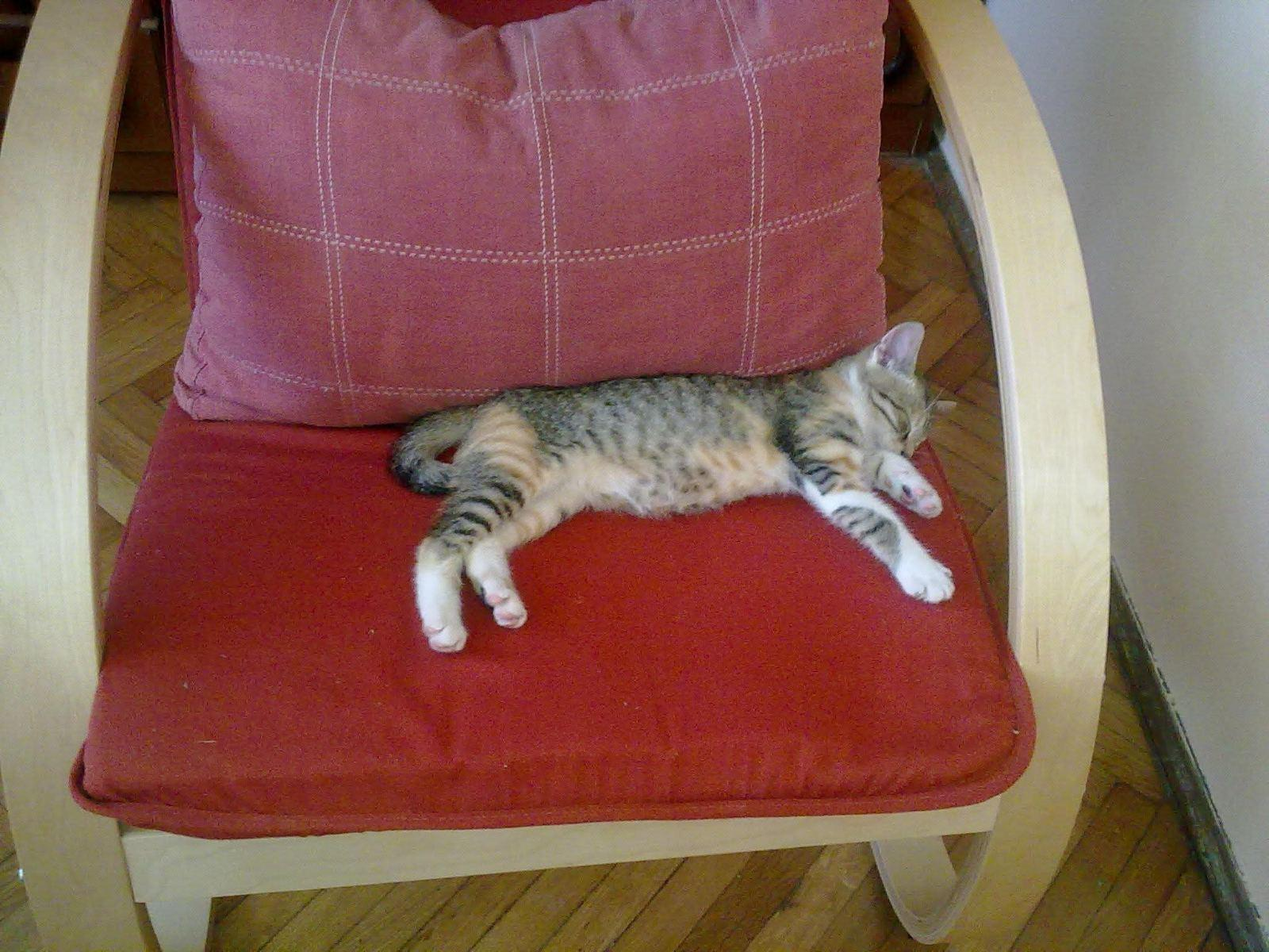macka: (393, 312, 957, 656)
